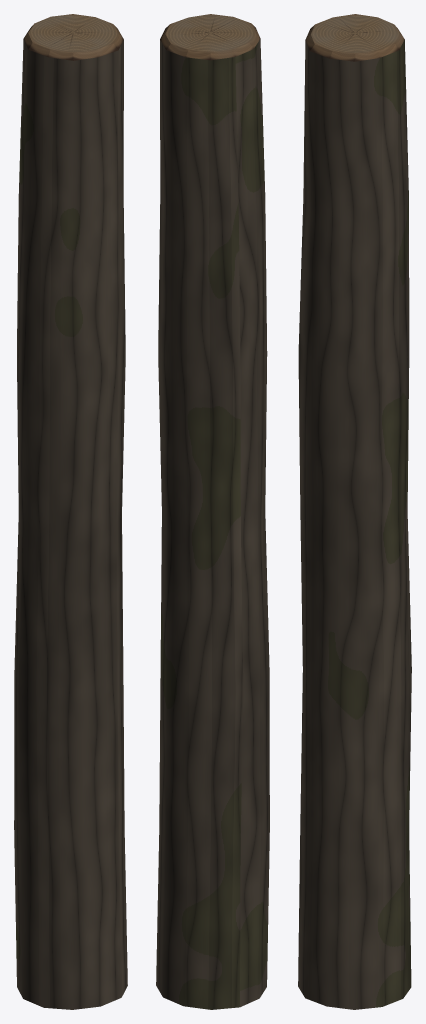
Rendered from S7U_SupportPost.fbx.
The picture shows the model from 3 angles, left to right: view 1: azimuth 30°, elevation 25°; view 2: azimuth 210°, elevation 25°; view 3: azimuth 270°, elevation 25°; orthographic projection.
Visible parts, largest first — view 1: S7U_SupportPost; view 2: S7U_SupportPost; view 3: S7U_SupportPost.
Boxes of the visible parts, box(x1,y1,x2,y2) form: S7U_SupportPost: box(14, 14, 127, 1009); S7U_SupportPost: box(156, 14, 269, 1009); S7U_SupportPost: box(298, 14, 411, 1009).
Bounding box in the file's own units: 0.2282 × 2.07 × 0.2231.
